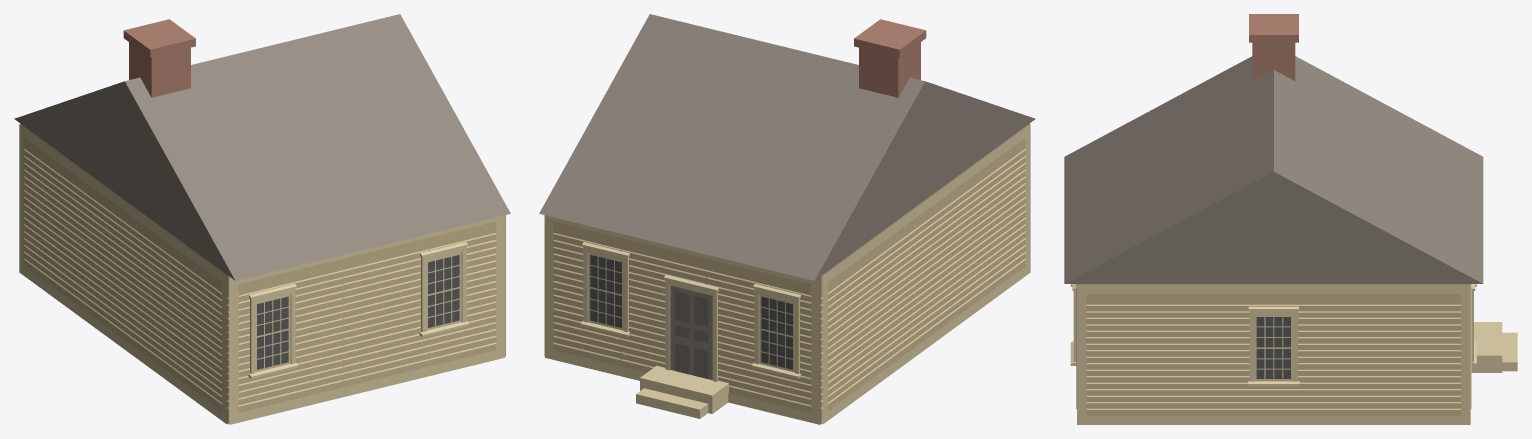
File: recon_1835_blk_washington_market_d4_08__inferred_1835.glb
The picture shows the model from 3 angles, left to right: view 1: azimuth 30°, elevation 25°; view 2: azimuth 150°, elevation 25°; view 3: azimuth 270°, elevation 25°; orthographic projection. The views are drawn at different scales.
Parts seen in each view (by area): view 1: recon_1835_blk_washington_market_d4_08__inferred_1835; view 2: recon_1835_blk_washington_market_d4_08__inferred_1835; view 3: recon_1835_blk_washington_market_d4_08__inferred_1835.
Boxes of the visible parts, bbox=[...] form: recon_1835_blk_washington_market_d4_08__inferred_1835: bbox=[14, 14, 510, 424]; recon_1835_blk_washington_market_d4_08__inferred_1835: bbox=[539, 14, 1035, 424]; recon_1835_blk_washington_market_d4_08__inferred_1835: bbox=[1064, 14, 1517, 424].
Bounding box in the file's own units: 6.04 × 6.24 × 8.87.
